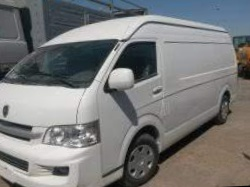van: (0, 10, 245, 187)
